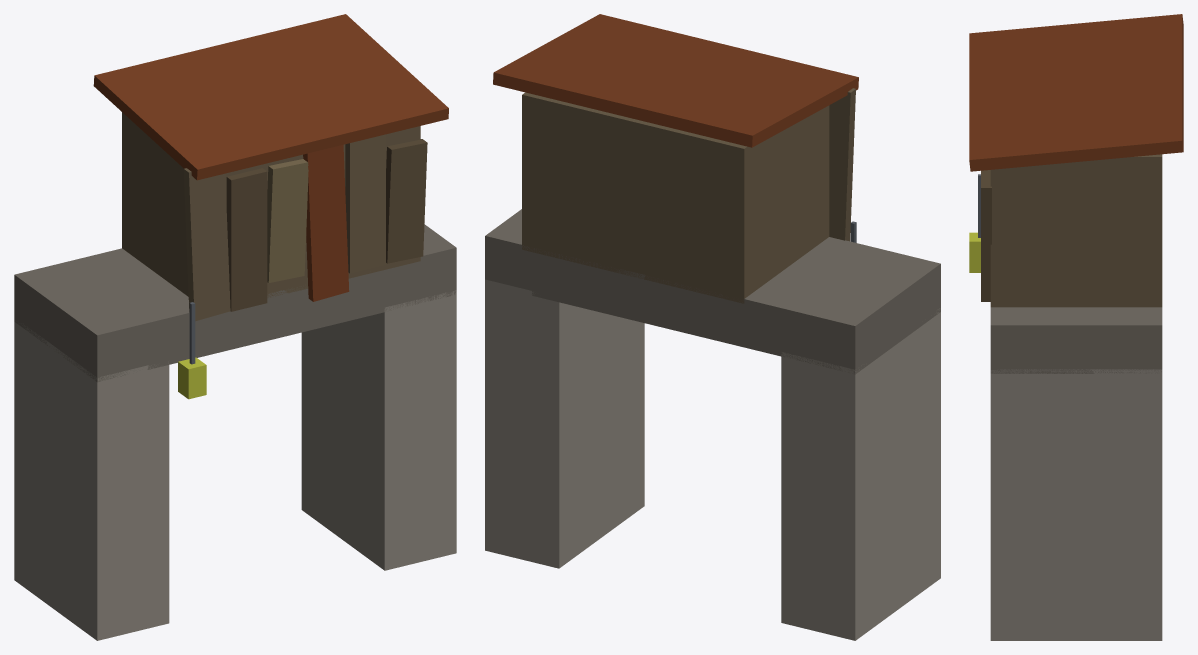
File: ratfolk_house_c_broken.glb
The picture shows the model from 3 angles, left to right: view 1: azimuth 30°, elevation 25°; view 2: azimuth 150°, elevation 25°; view 3: azimuth 270°, elevation 25°; orthographic projection. The views are drawn at different scales.
Parts seen in each view (by area): view 1: ratfolk_house_c_piece1, ratfolk_house_c_piece3, ratfolk_house_c_piece5, ratfolk_house_c_piece4, ratfolk_house_c_piece2, ratfolk_house_c_piece0, ratfolk_house_c_piece9, ratfolk_house_c_piece7, ratfolk_house_c_piece6; view 2: ratfolk_house_c_piece1, ratfolk_house_c_piece0, ratfolk_house_c_piece5, ratfolk_house_c_piece3, ratfolk_house_c_piece2, ratfolk_house_c_piece9, ratfolk_house_c_piece6, ratfolk_house_c_piece7, ratfolk_house_c_piece4; view 3: ratfolk_house_c_piece1, ratfolk_house_c_piece3, ratfolk_house_c_piece5, ratfolk_house_c_piece4.
Boxes of the visible parts, <box> form: ratfolk_house_c_piece1: <box>139,14,448,324</box>; ratfolk_house_c_piece3: <box>302,198,456,570</box>; ratfolk_house_c_piece5: <box>28,62,184,497</box>; ratfolk_house_c_piece4: <box>93,256,216,640</box>; ratfolk_house_c_piece2: <box>159,161,342,401</box>; ratfolk_house_c_piece0: <box>14,176,152,615</box>; ratfolk_house_c_piece9: <box>14,264,151,565</box>; ratfolk_house_c_piece7: <box>63,482,123,631</box>; ratfolk_house_c_piece6: <box>301,402,338,536</box>; ratfolk_house_c_piece1: <box>485,14,858,380</box>; ratfolk_house_c_piece0: <box>635,189,919,640</box>; ratfolk_house_c_piece5: <box>687,110,940,430</box>; ratfolk_house_c_piece3: <box>485,313,644,556</box>; ratfolk_house_c_piece2: <box>494,126,856,457</box>; ratfolk_house_c_piece9: <box>777,276,938,531</box>; ratfolk_house_c_piece6: <box>512,298,639,568</box>; ratfolk_house_c_piece7: <box>906,428,940,603</box>; ratfolk_house_c_piece4: <box>804,212,940,580</box>; ratfolk_house_c_piece1: <box>969,22,1183,460</box>; ratfolk_house_c_piece3: <box>981,244,1162,640</box>; ratfolk_house_c_piece5: <box>1089,14,1183,52</box>; ratfolk_house_c_piece4: <box>969,187,980,272</box>.
Size of the model in its own units: 2 by 2.53 by 1.
